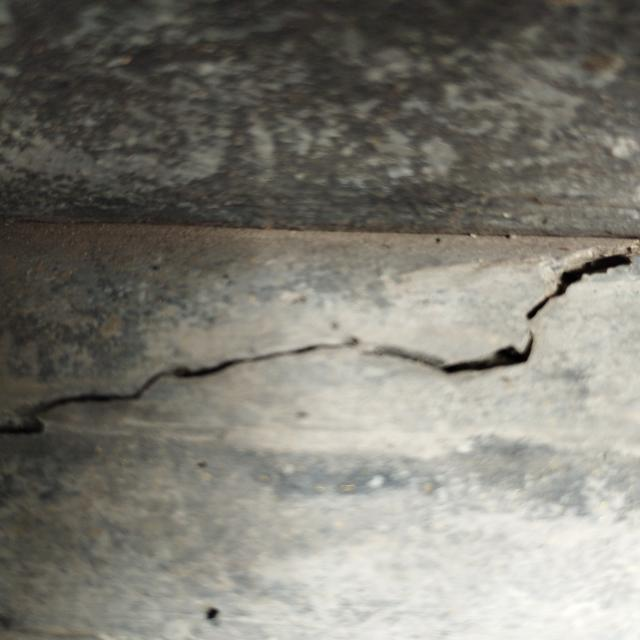curved crack: (0, 249, 637, 434)
